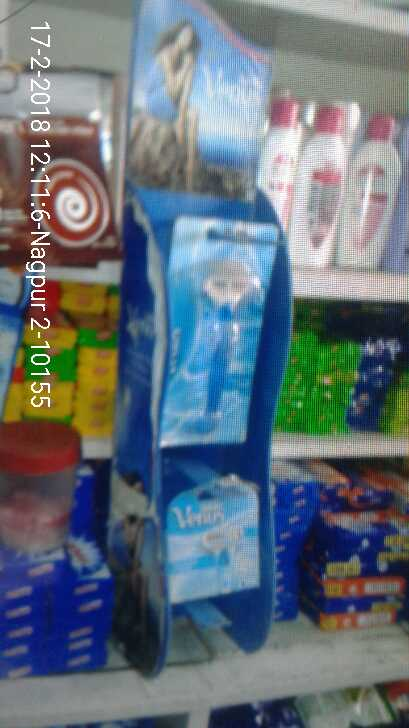venus: (162, 215, 277, 451), (168, 486, 261, 603)
